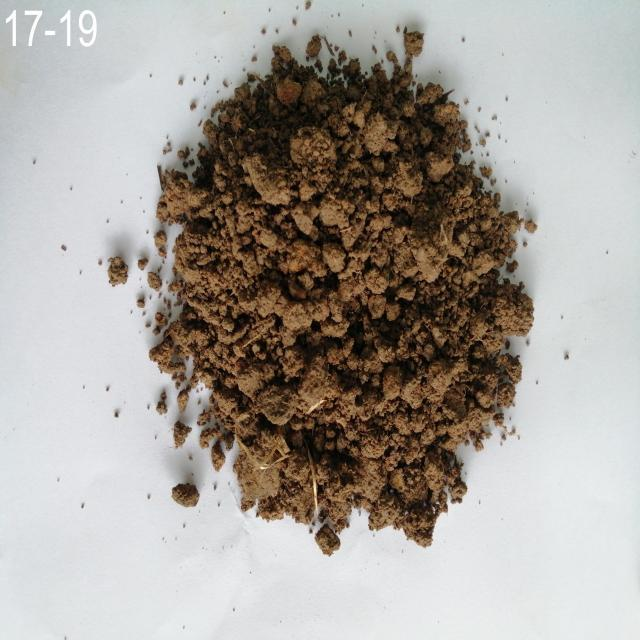soil: (222, 108, 462, 456)
